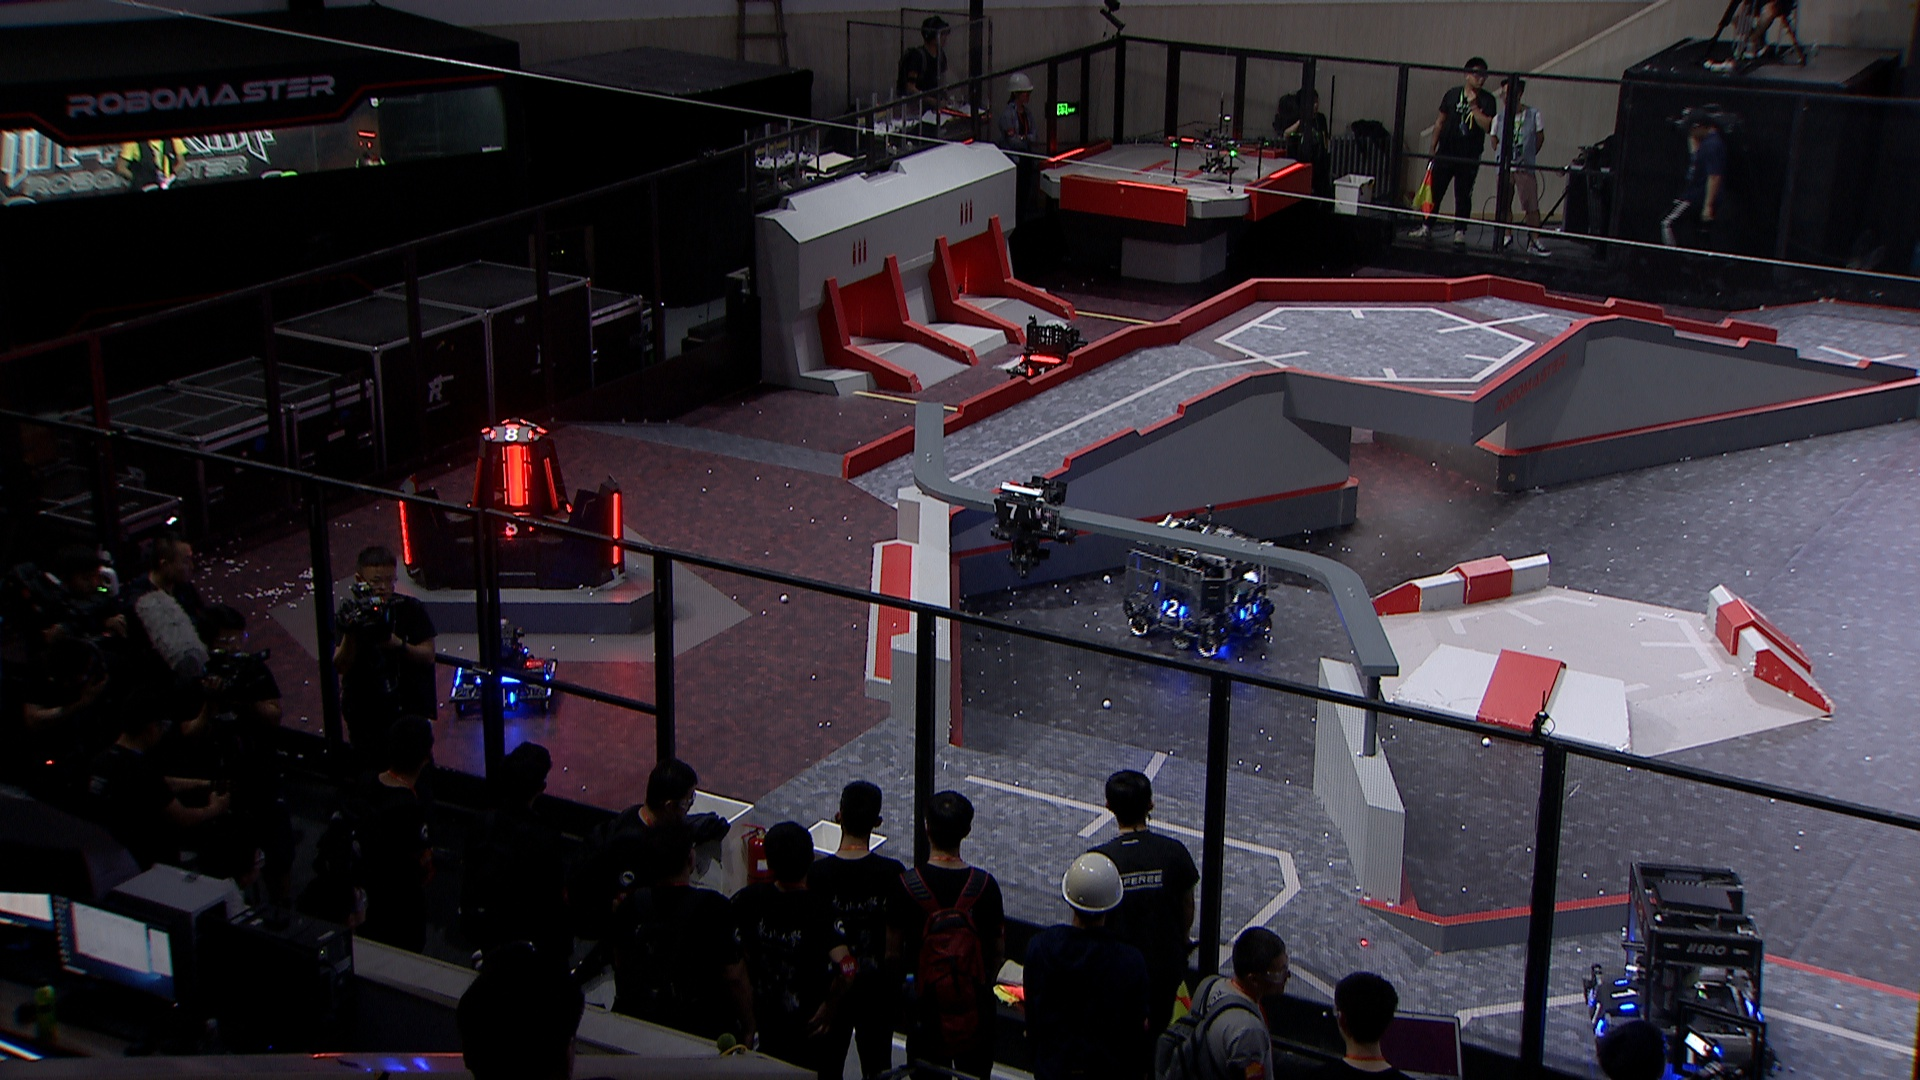armor: (500, 440, 533, 509), (607, 491, 626, 568), (396, 496, 414, 570), (539, 454, 562, 513), (1677, 1044, 1724, 1069), (465, 456, 485, 512), (487, 425, 537, 446), (989, 498, 1033, 522), (1607, 975, 1634, 1011), (1584, 989, 1605, 1035), (495, 520, 533, 541), (1158, 597, 1187, 621), (1237, 603, 1259, 622), (1025, 365, 1048, 380)
base: (392, 413, 628, 593)
car: (1577, 861, 1766, 1072), (1124, 506, 1278, 659), (448, 616, 558, 716), (1005, 314, 1100, 396)
watcher: (986, 475, 1073, 576)
